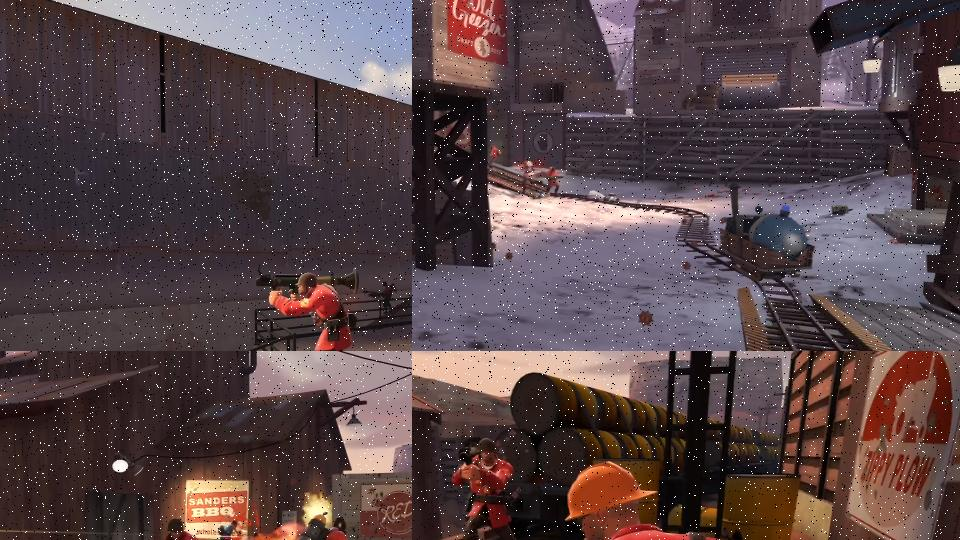Enemy: (464, 458, 787, 540), (255, 262, 361, 351), (451, 437, 524, 540), (362, 281, 398, 314), (519, 157, 543, 194), (545, 166, 564, 195), (217, 520, 240, 540), (487, 144, 503, 165)
